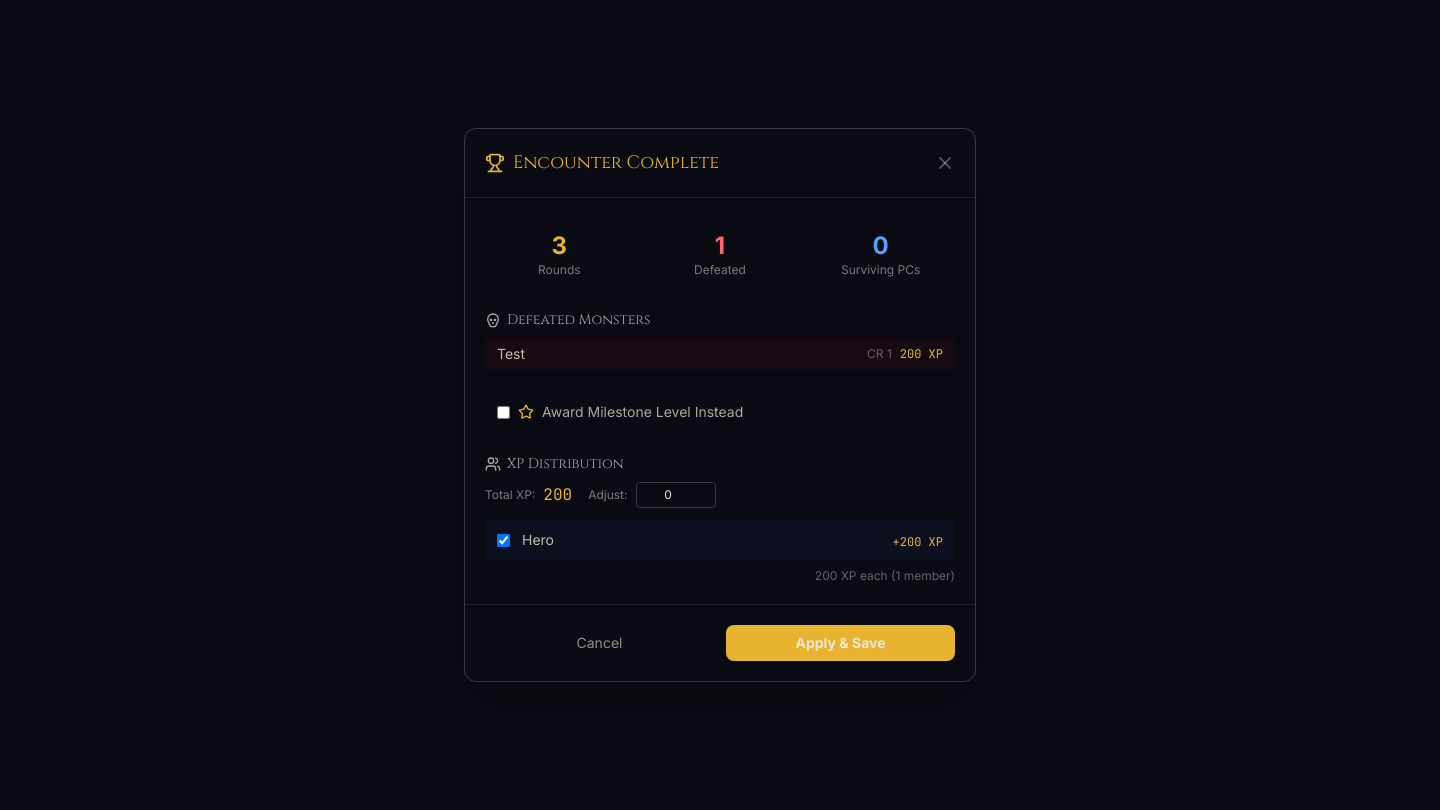
Test: EndEncounterModal › should allow manual XP adjustment
The image size is (1440, 810).
Replace the text in the number field labelled "Adjust:" with "100": (676, 495) [636, 482, 716, 508]
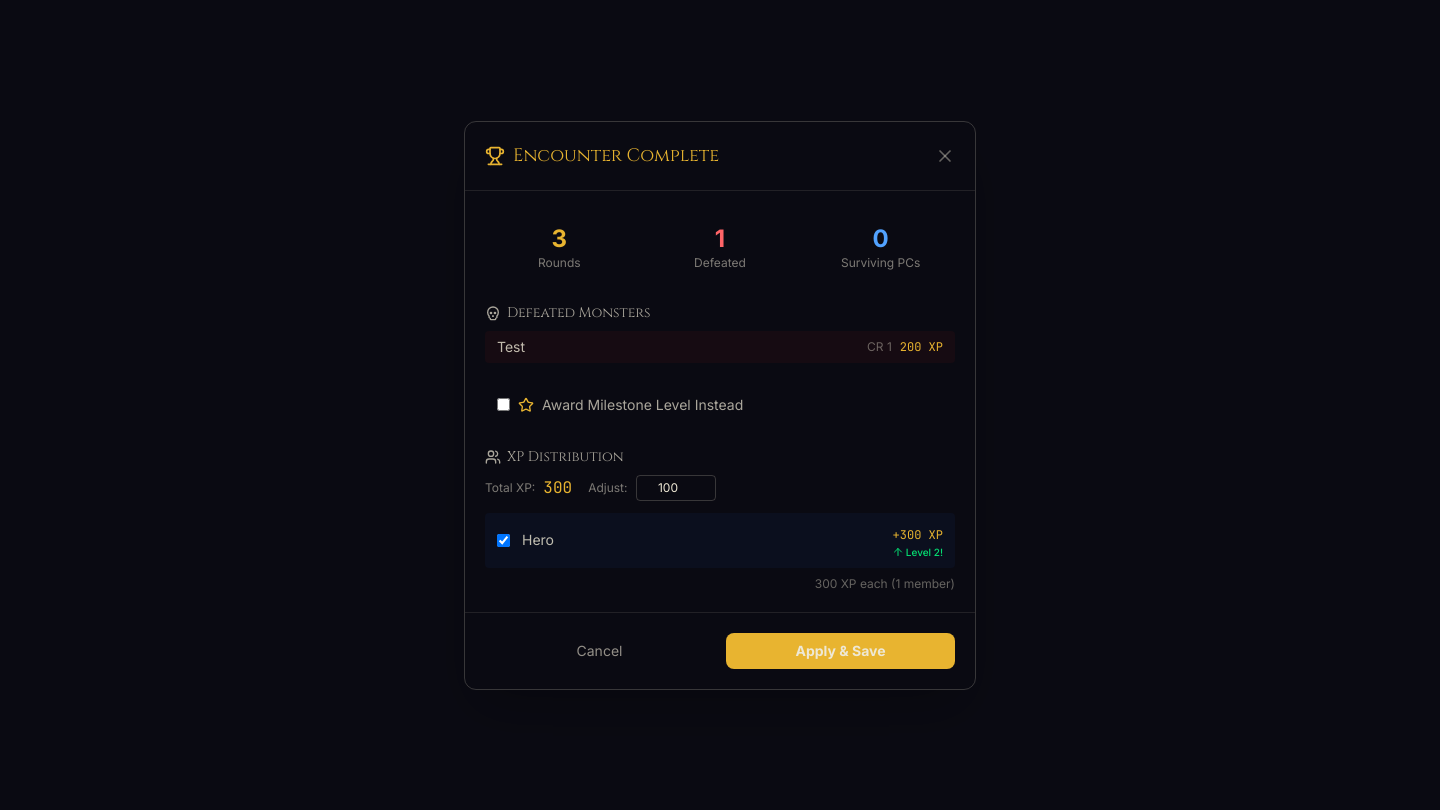
Check: the text "+300 XP" is shown, box [893, 526, 943, 542]
